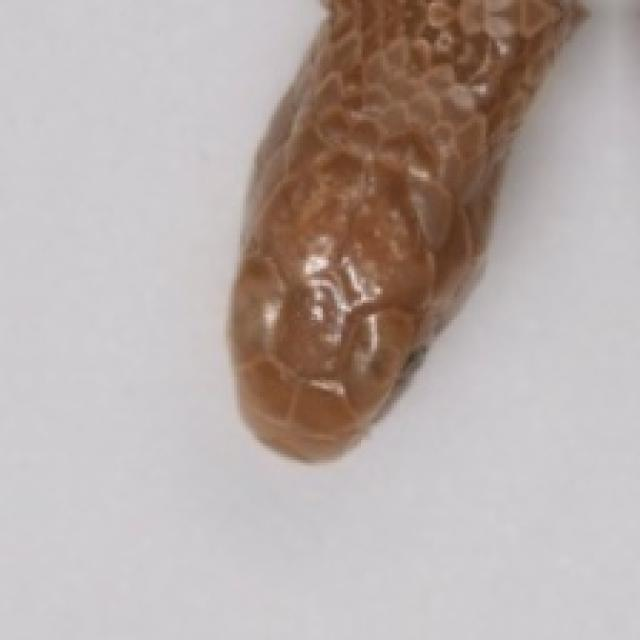philippine cobra: (229, 0, 583, 457)
